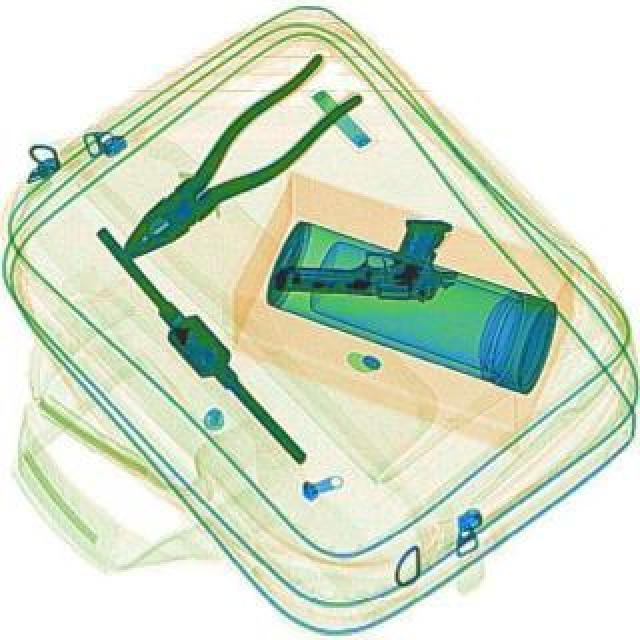gun: (272, 212, 468, 306)
wrench: (100, 54, 372, 286)
